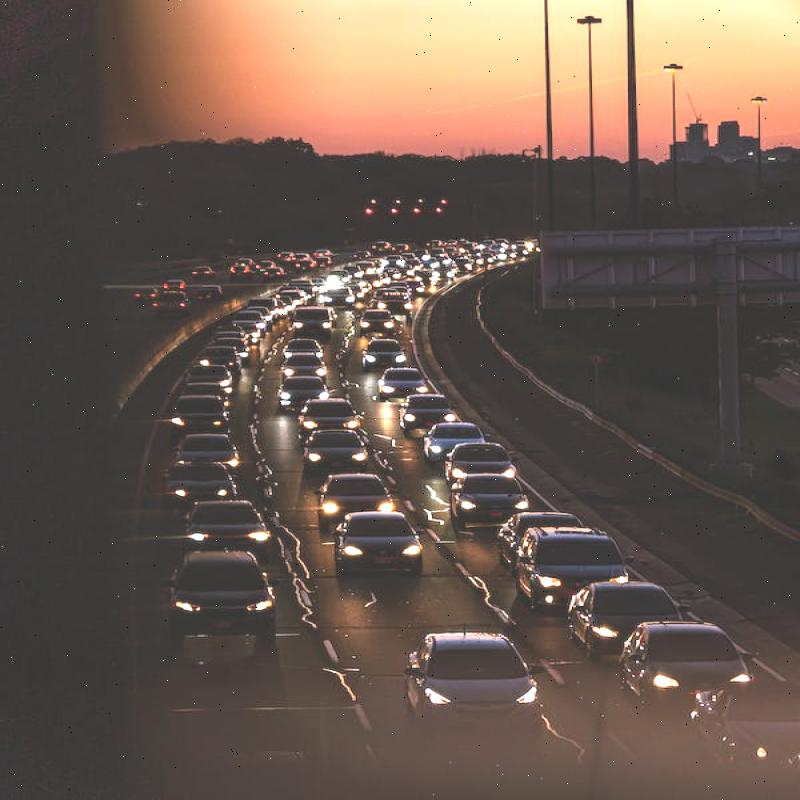car: (413, 630, 546, 736), (615, 612, 738, 713), (562, 573, 673, 673), (452, 455, 553, 544), (523, 527, 624, 615), (164, 555, 273, 629), (328, 518, 420, 588), (166, 484, 262, 551), (427, 427, 506, 494), (285, 427, 362, 480), (304, 475, 380, 524), (386, 393, 464, 437), (289, 384, 355, 426)
